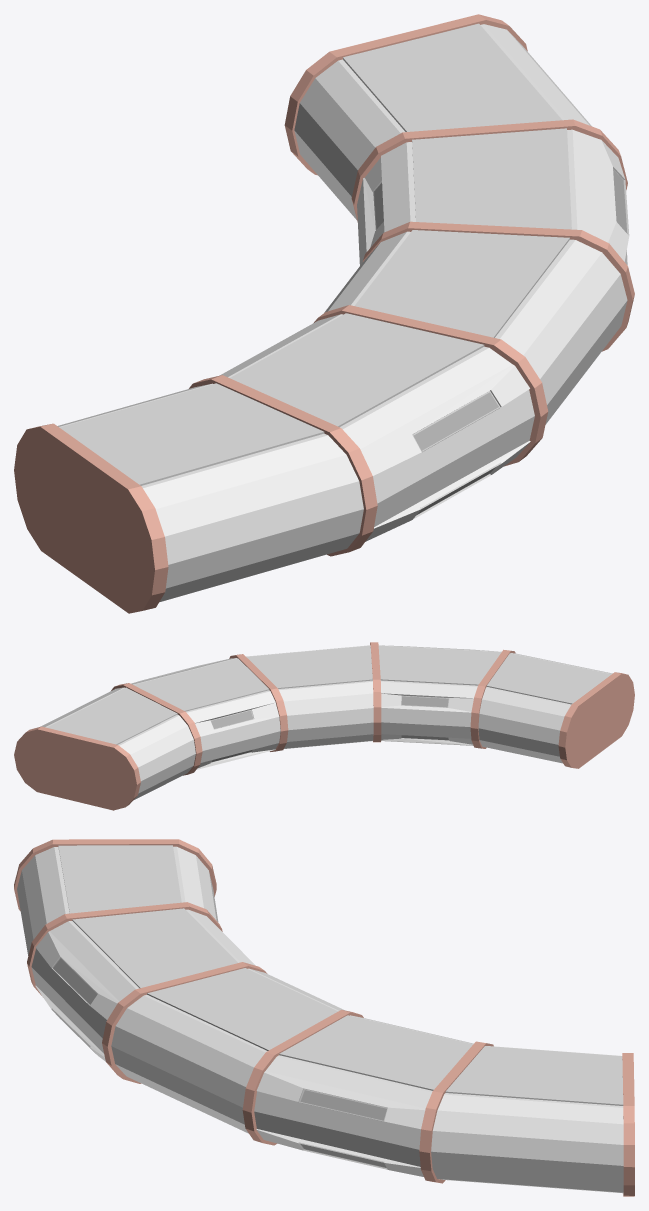
3 views of the same model, one above another, from view 1: azimuth 30°, elevation 25°; view 2: azimuth 150°, elevation 25°; view 3: azimuth 270°, elevation 25° (orthographic). The views are drawn at different scales.
Parts seen in each view (by area): view 1: Cylinder_13; view 2: Cylinder_13; view 3: Cylinder_13.
Part boxes in pixels (x1,y1,x2,y2): Cylinder_13: (14, 14, 634, 613); Cylinder_13: (14, 642, 634, 810); Cylinder_13: (14, 839, 634, 1196).
Size of the model in its own units: 2000 by 297 by 1851.
